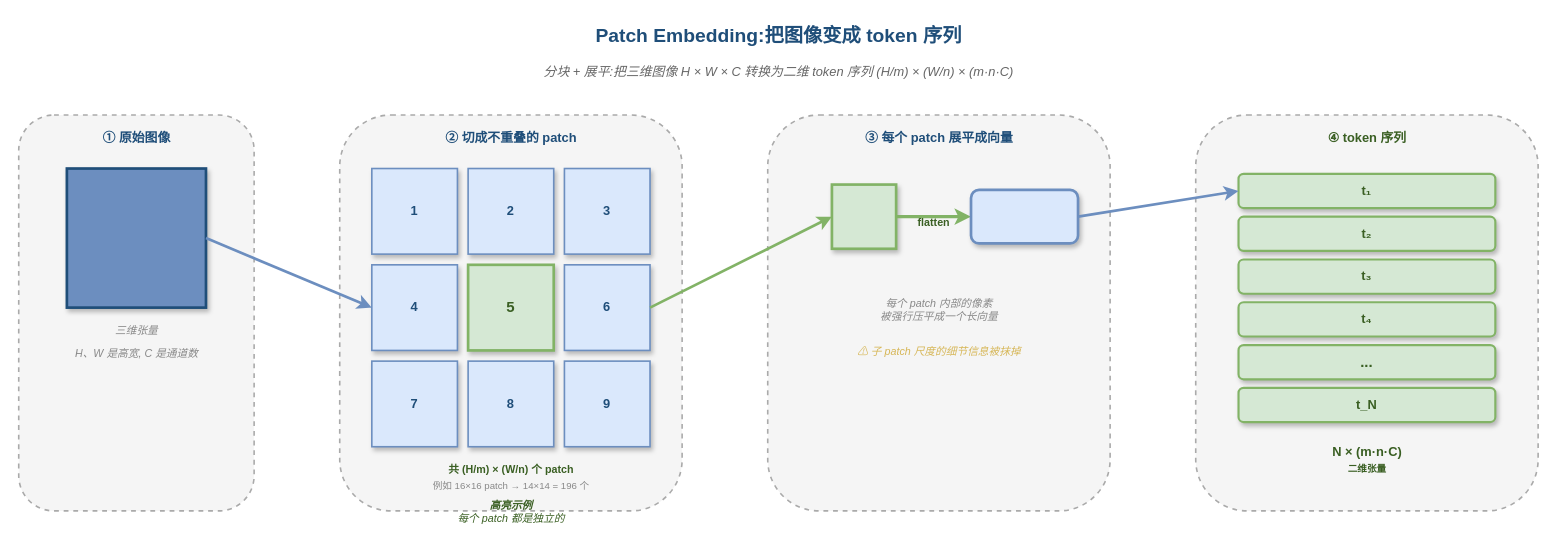
Image size: 1558x547. Some labels were removed from this diagram. The centre of each missing label's shape, as x and y in pixels:
H × W × C 224 × 224 × 3: [137,239]
patch m × n × C: [864,217]
长向量 m·n·C 维: [1025,218]
